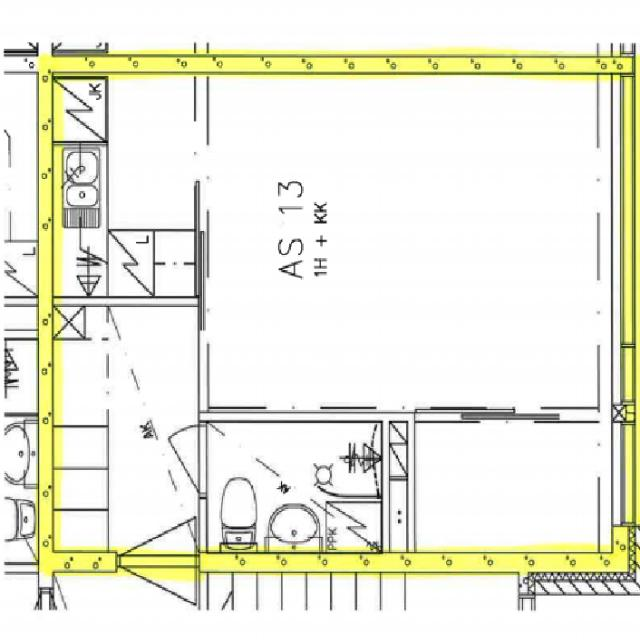door: (120, 463, 195, 573), (120, 553, 195, 640), (140, 426, 207, 495)
